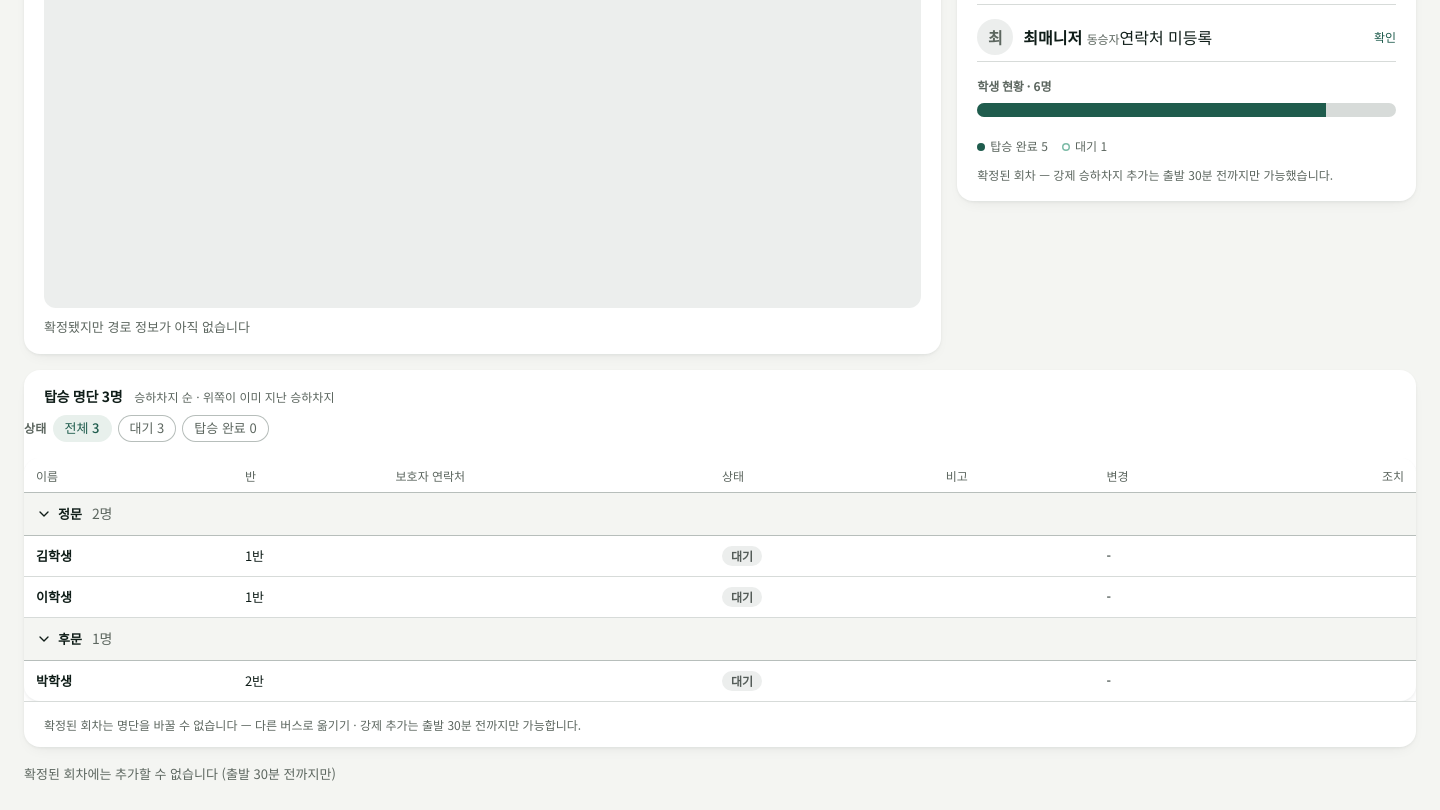
Scenario: TodayRunPage — 명단을 승하차지별로 묶는다 › 묶음 머리줄을 누르면 그 승하차지 학생만 접힌다
This screenshot has width=1440, height=810.
(page scrolled)
Click the button "정문 2명": (44, 514) x1=24 y1=494 x2=1416 y2=535
(page scrolled)
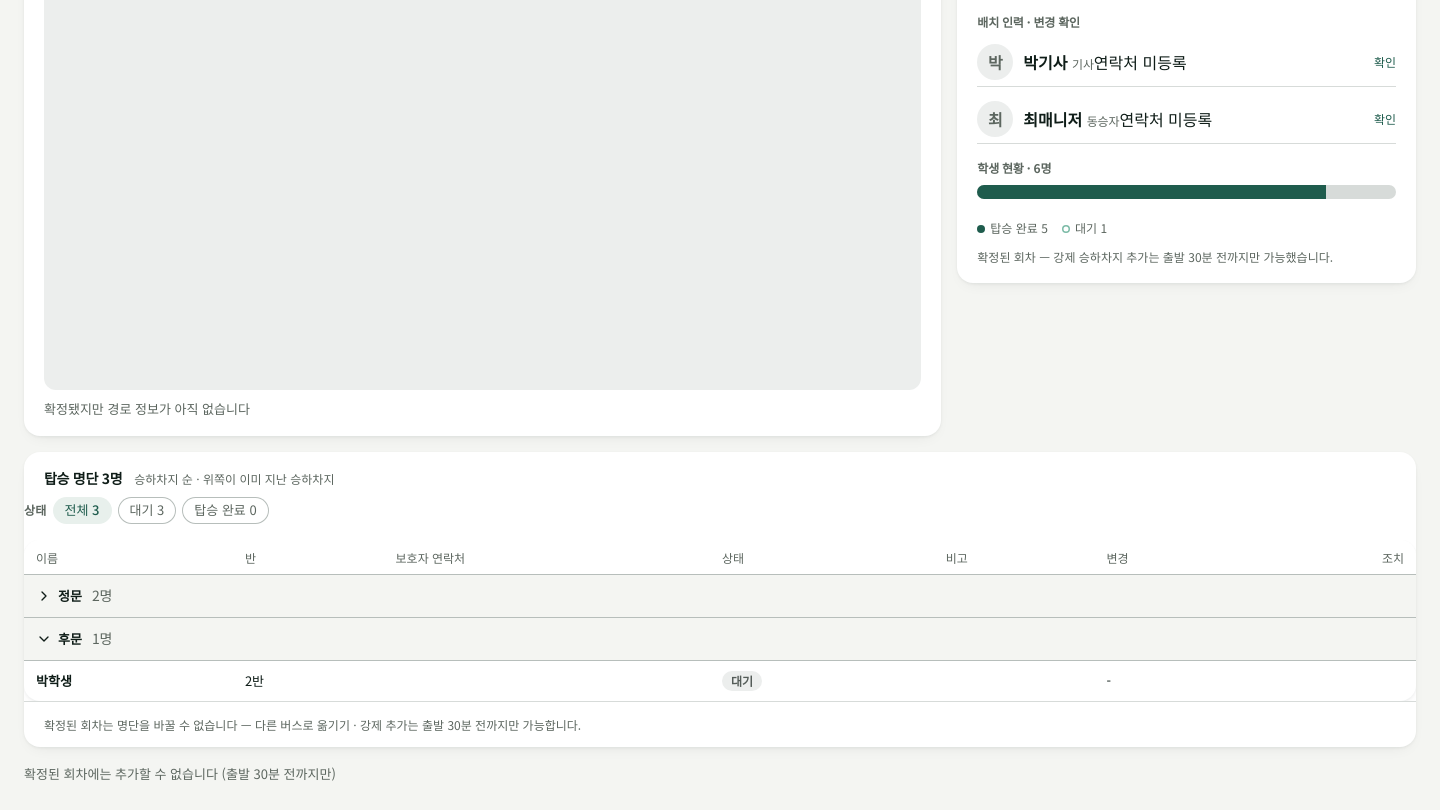
Expected: the button "정문 2명" is collapsed, x1=24 y1=576 x2=1416 y2=617
Expected: the text "김학생" is gone
Expected: the text "이학생" is gone
